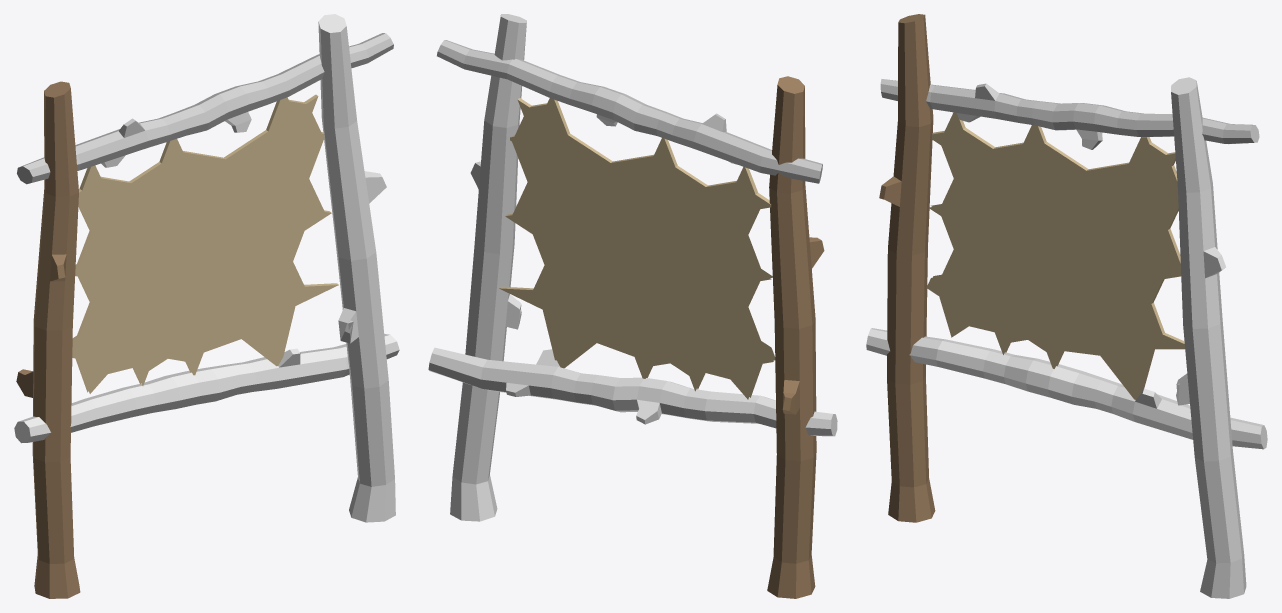
Rendered from Tanner.fbx.
3 renders of one model, left to right at view 1: azimuth 30°, elevation 25°; view 2: azimuth 150°, elevation 25°; view 3: azimuth 330°, elevation 25°, orthographic.
Parts seen in each view (by area): view 1: Cube, Cylinder, Cylinder.002, Cylinder.003, Cylinder.001; view 2: Cube, Cylinder.002, Cylinder, Cylinder.003, Cylinder.001; view 3: Cube, Cylinder, Cylinder.002, Cylinder.003, Cylinder.001.
Part boxes in pixels (x1,y1,x2,y2): Cube: [72, 94, 338, 393]; Cylinder: [318, 14, 395, 522]; Cylinder.002: [16, 81, 80, 598]; Cylinder.003: [14, 334, 399, 443]; Cylinder.001: [17, 33, 393, 184]; Cube: [499, 98, 775, 399]; Cylinder.002: [767, 76, 824, 598]; Cylinder: [450, 14, 526, 521]; Cylinder.003: [428, 347, 837, 436]; Cylinder.001: [437, 40, 822, 183]; Cube: [926, 112, 1184, 399]; Cylinder: [1171, 77, 1246, 598]; Cylinder.002: [879, 14, 935, 522]; Cylinder.003: [866, 328, 1267, 449]; Cylinder.001: [880, 79, 1259, 149].
Size of the model in its own units: 493 by 610 by 93.28.
